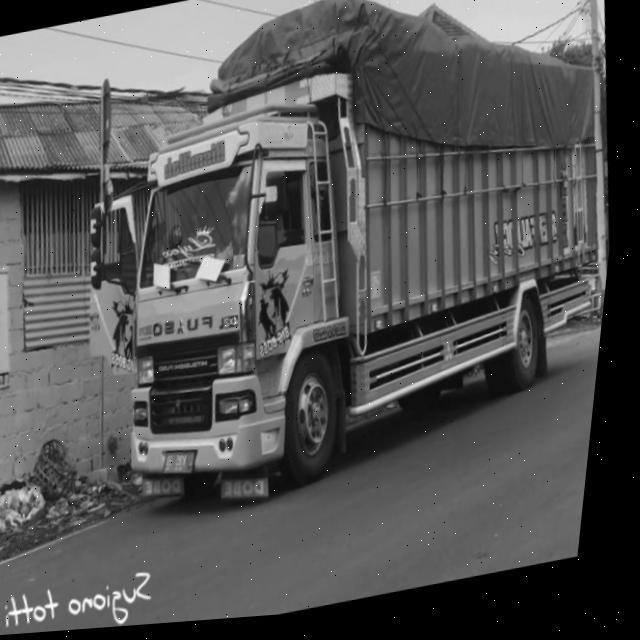truck: (53, 62, 418, 544)
